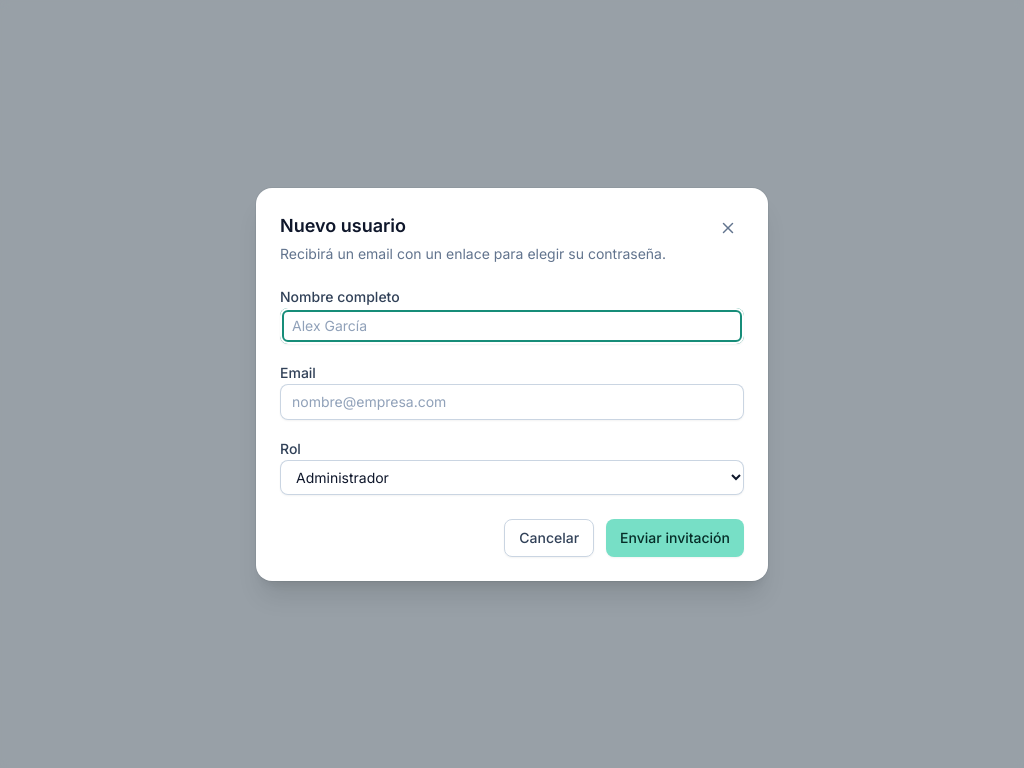
Scenario: UserDialog › muestra junto al campo el error que devuelve la API
Type "  Marta Díaz " into the field labelled "Nombre completo" at (512, 326), box [280,308,744,344]
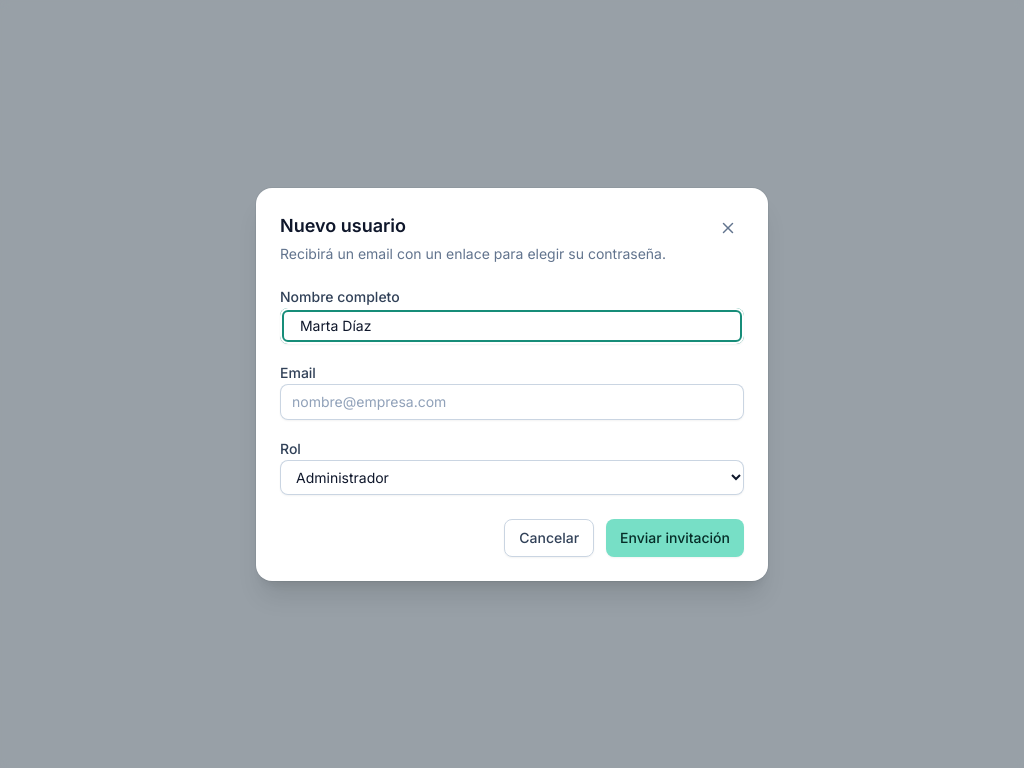
Type "marta@example.com" into the field labelled "Email" at (512, 402), box [280,384,744,420]
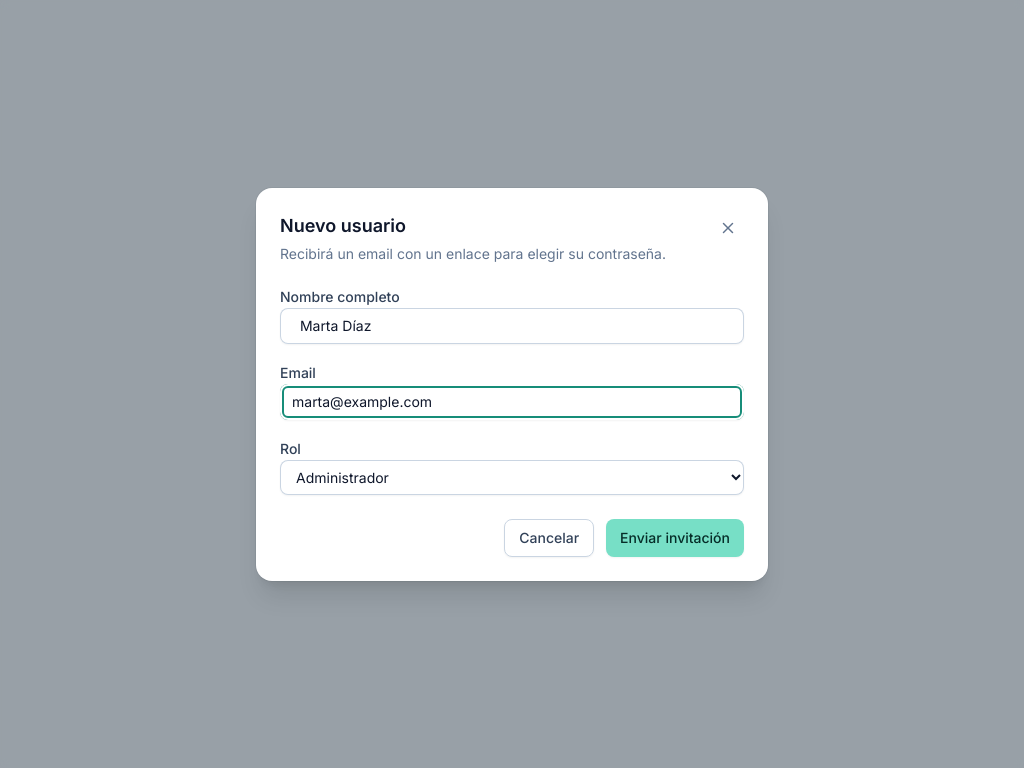
Click the button "Enviar invitación" at (675, 538), box [606,518,744,556]
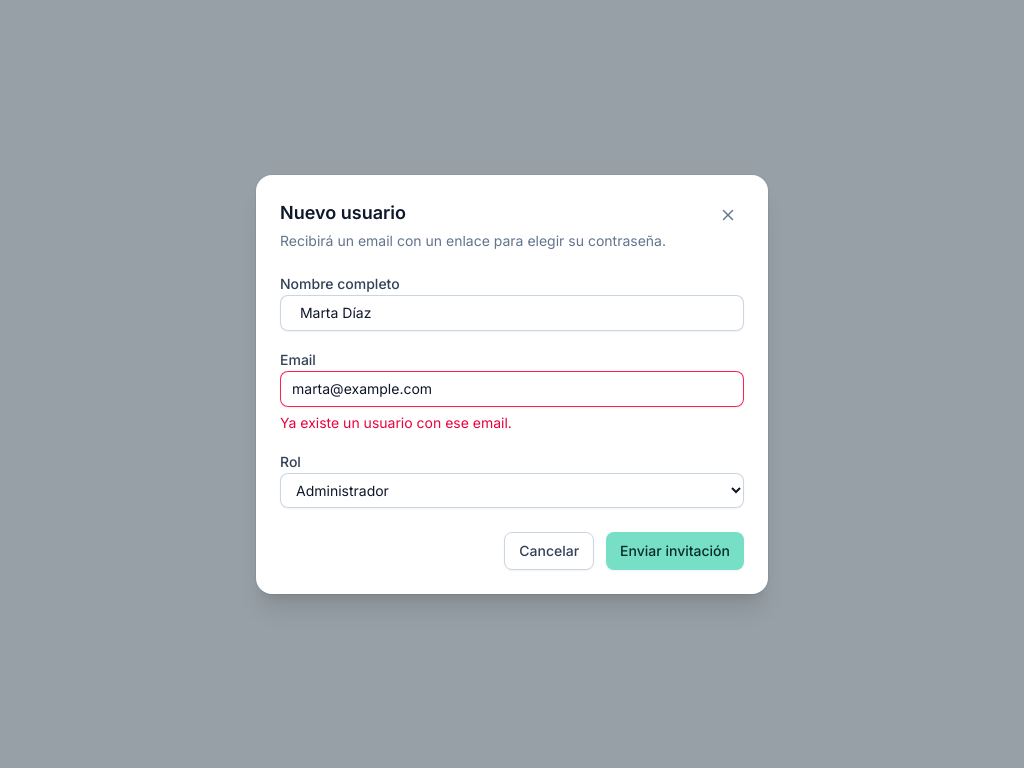
Result: the message reads "Ya existe un usuario con ese email." at [280,414,512,430]
